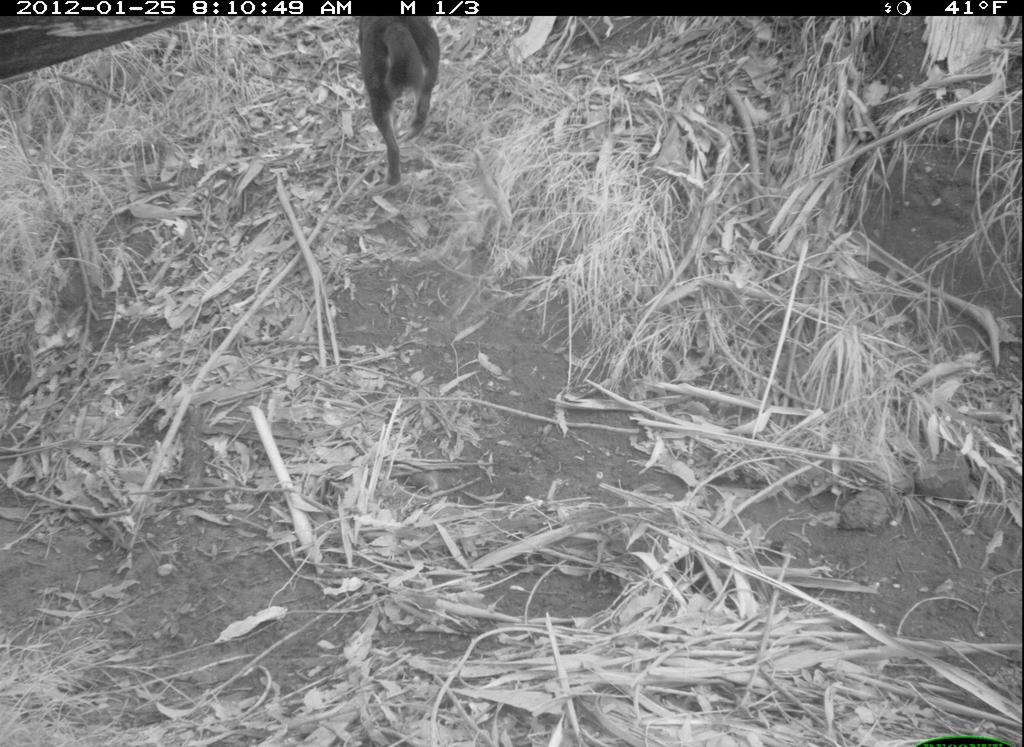dog: (344, 12, 452, 193)
